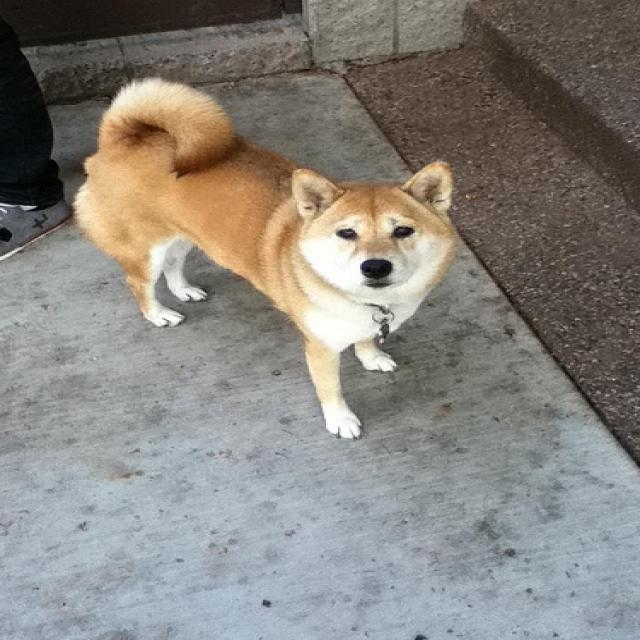dog-shiba_inu: (63, 72, 468, 447)
